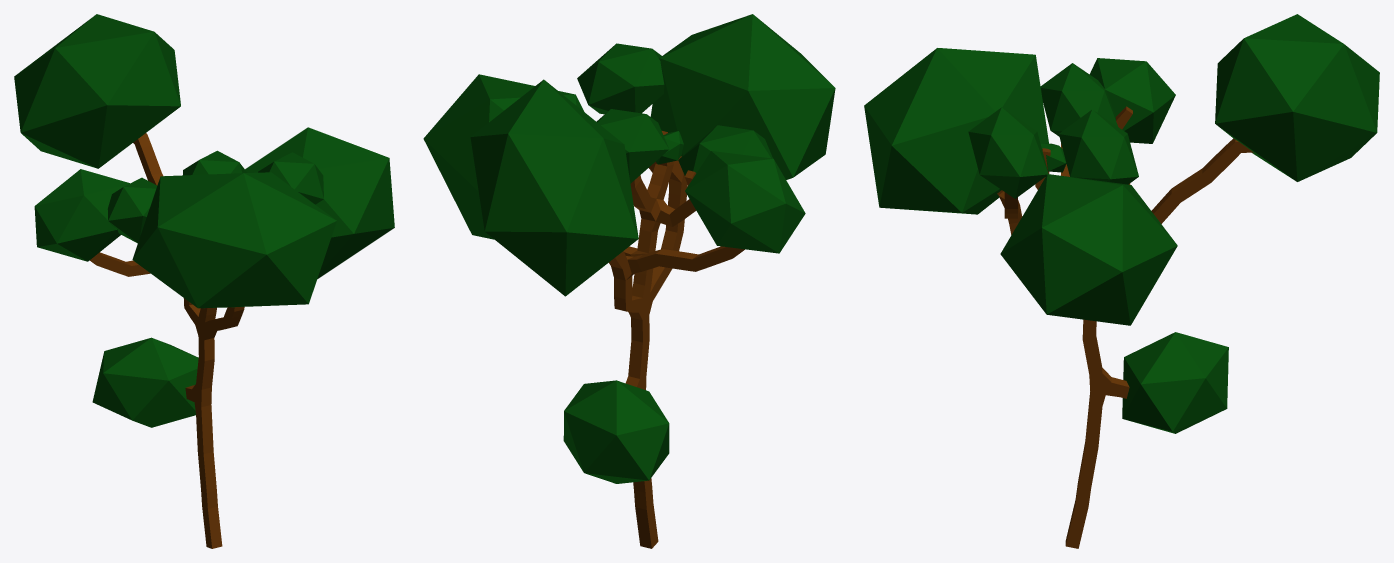
File: Big Tree.fbx
The picture shows the model from 3 angles, left to right: view 1: azimuth 30°, elevation 25°; view 2: azimuth 150°, elevation 25°; view 3: azimuth 270°, elevation 25°; orthographic projection. The views are drawn at different scales.
Parts seen in each view (by area): view 1: Circle.002; view 2: Circle.002; view 3: Circle.002.
Part boxes in pixels (x1=…): Circle.002: x1=14, y1=14, x2=394, y2=548; Circle.002: x1=423, y1=14, x2=835, y2=548; Circle.002: x1=864, y1=14, x2=1379, y2=548.
Size of the model in its own units: 492 by 663 by 600.
